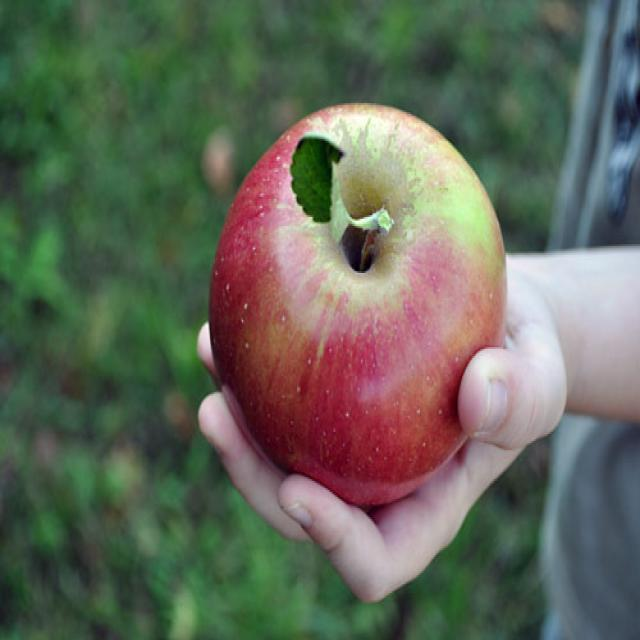Apple: (215, 95, 508, 504)
